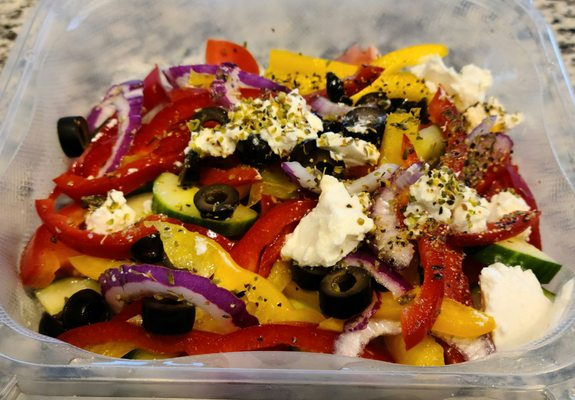sandwich: (7, 42, 574, 393)
